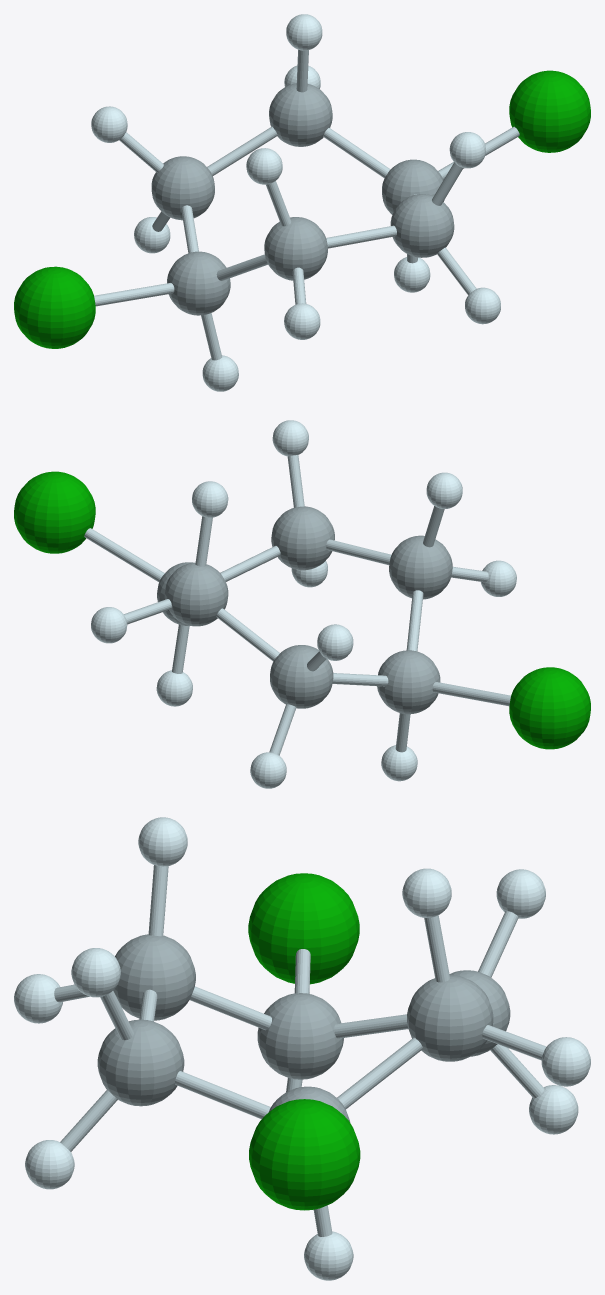
The model's file is irc_step_116.glb.
3 renders of one model, top to bottom at view 1: azimuth 30°, elevation 25°; view 2: azimuth 150°, elevation 25°; view 3: azimuth 270°, elevation 25°, orthographic. The views are drawn at different scales.
Parts seen in each view (by area): view 1: Renderer Node; view 2: Renderer Node; view 3: Renderer Node.
Part boxes in pixels (x1=…): Renderer Node: x1=14, y1=14, x2=590, y2=391; Renderer Node: x1=14, y1=420, x2=590, y2=788; Renderer Node: x1=14, y1=817, x2=590, y2=1280.
Size of the model in its own units: 7.14 by 3.64 by 4.65.
